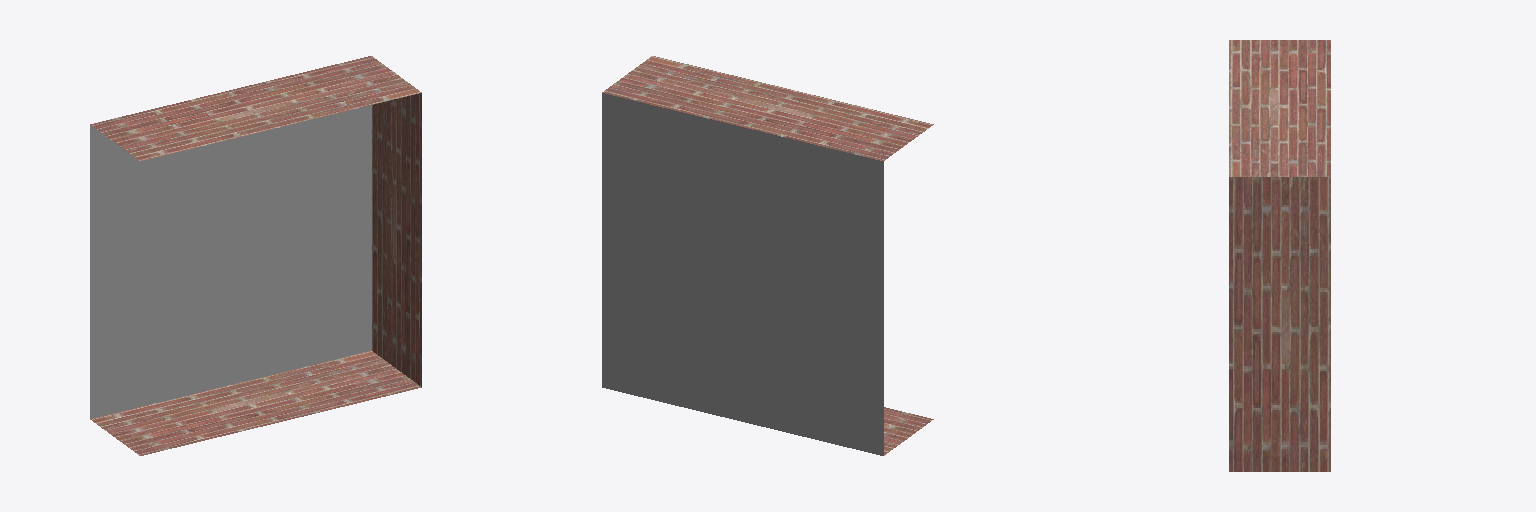
The picture shows the model from 3 angles: view 1: azimuth 30°, elevation 25°; view 2: azimuth 150°, elevation 25°; view 3: azimuth 270°, elevation 25°; orthographic projection.
Parts seen in each view (by area): view 1: Cube; view 2: Cube; view 3: Cube.
Part boxes in pixels (left/top/right/bottom): Cube: left=90, top=56, right=421, bottom=455; Cube: left=602, top=56, right=933, bottom=455; Cube: left=1229, top=40, right=1330, bottom=471.
Size of the model in its own units: 16 by 16 by 4.98.
2 materials, 1 textured.